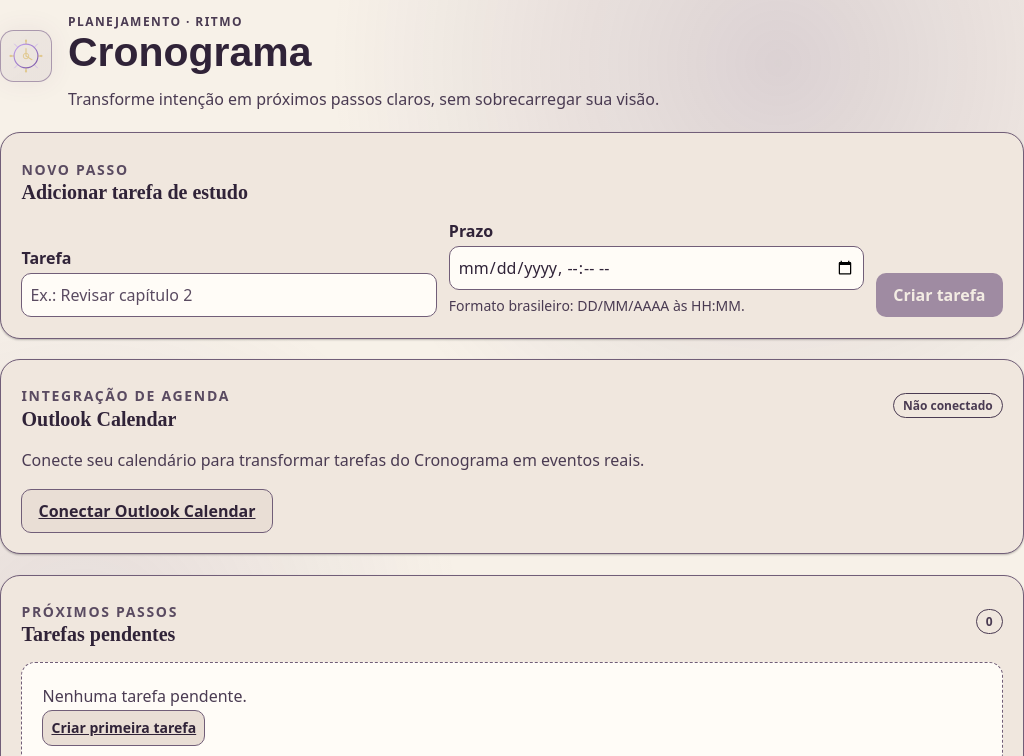
pending task mutations › preserves input after creation fails and clears it after a successful retry
This screenshot has width=1024, height=756.
Type "Revisão sintética" into the field labelled "Tarefa". click: (229, 295)
box: [22,273,437,317]
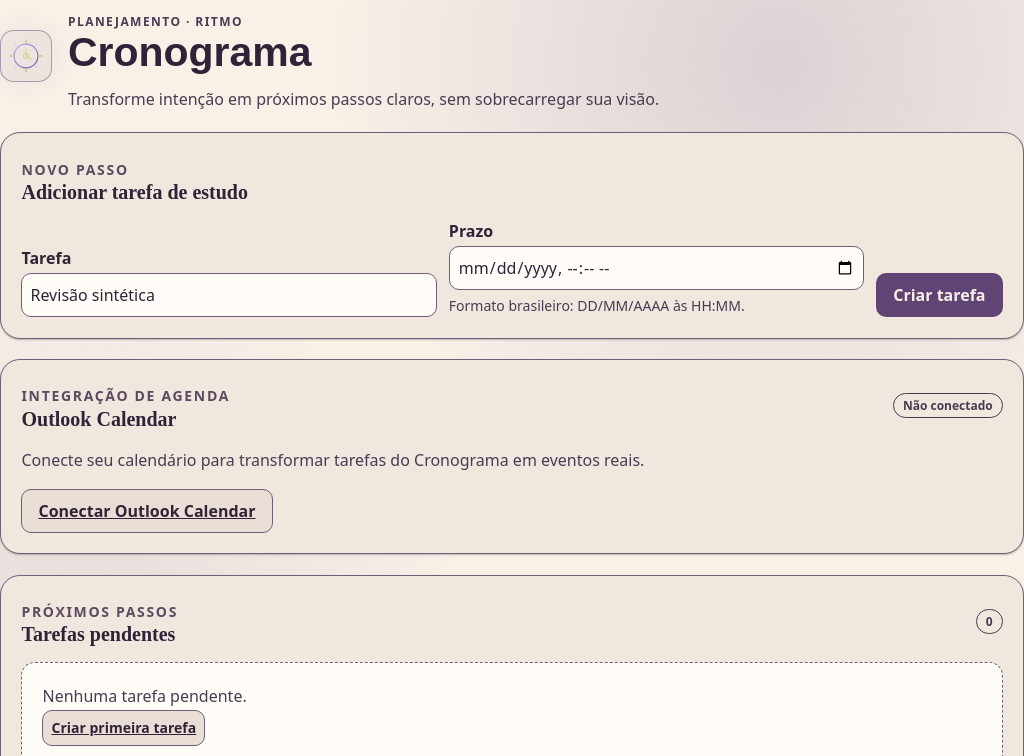
Type "2026-10-18T14:30" into the field labelled "Prazo". click: (656, 268)
box: [449,246,864,290]
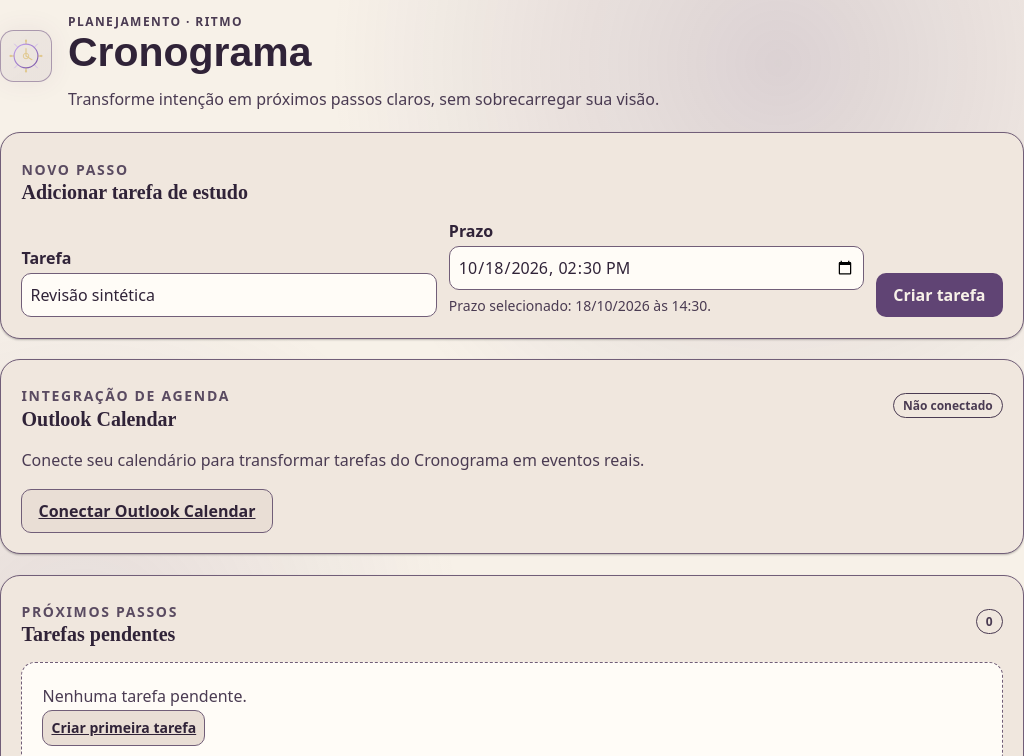
Submit the form named "Adicionar tarefa de estudo", box [22,220,1003,317]
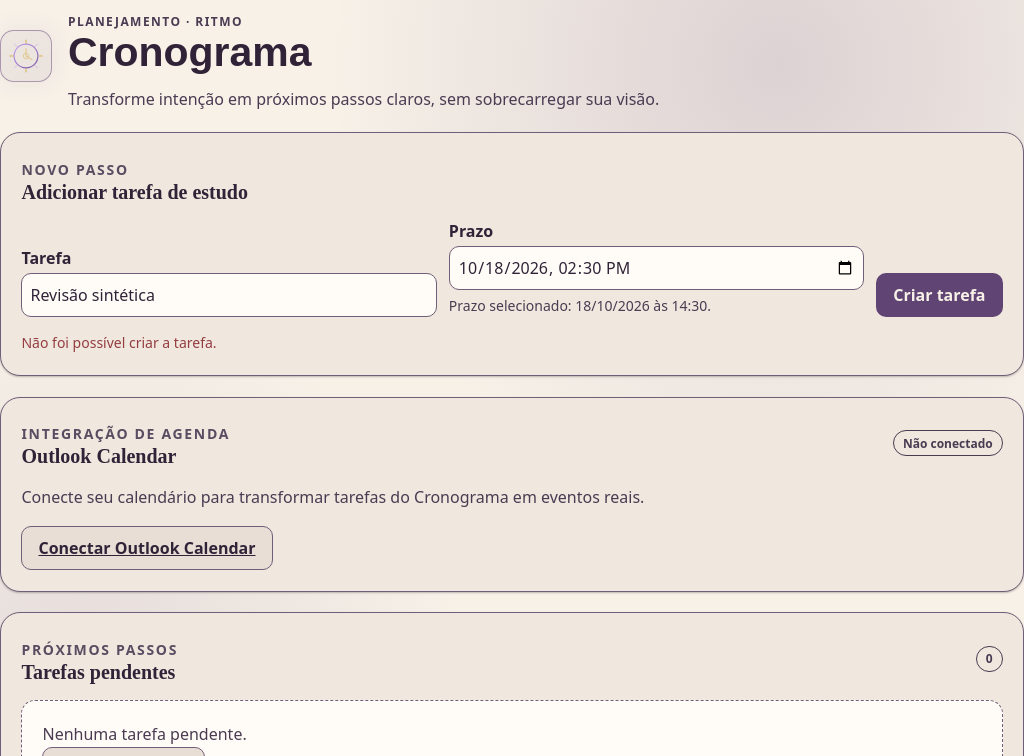
Check: the button "Criar tarefa" is enabled, box [876,273,1002,317]
Check: the message reads "Não foi possível criar a tarefa.", box [22,334,217,352]
Submit the form named "Adicionar tarefa de estudo", box [22,220,1003,355]
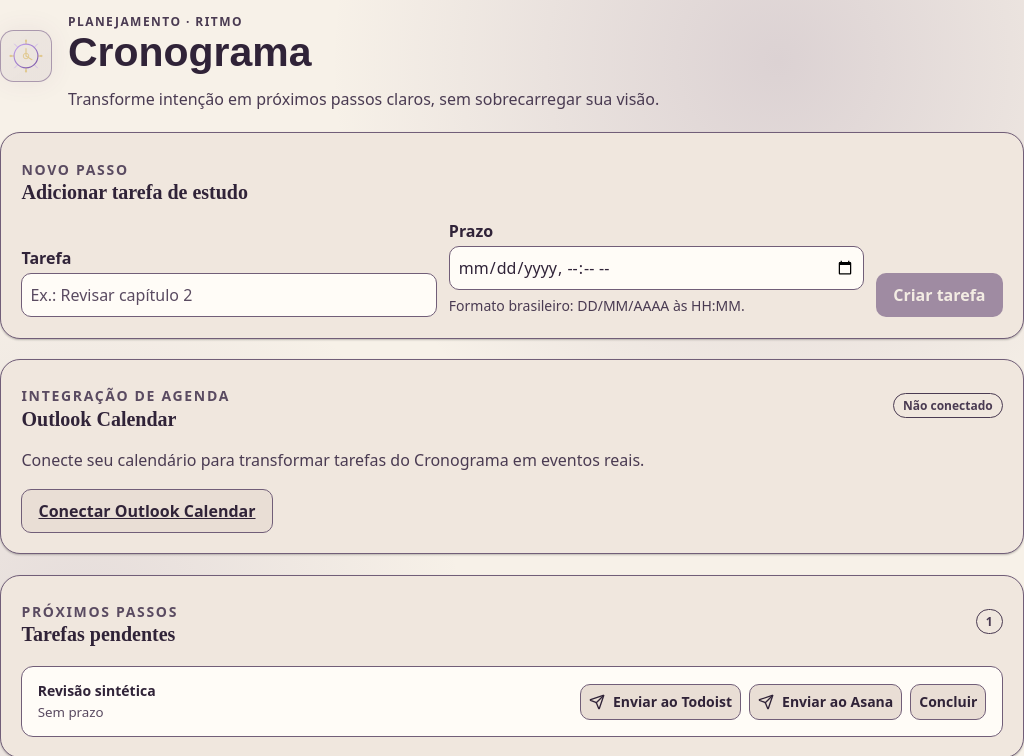
Check: the text "Revisão sintética" is shown, box [38,681,156,700]
Check: the field labelled "Tarefa" is empty, box [22,273,437,317]
Check: the field labelled "Prazo" is empty, box [449,246,864,290]
